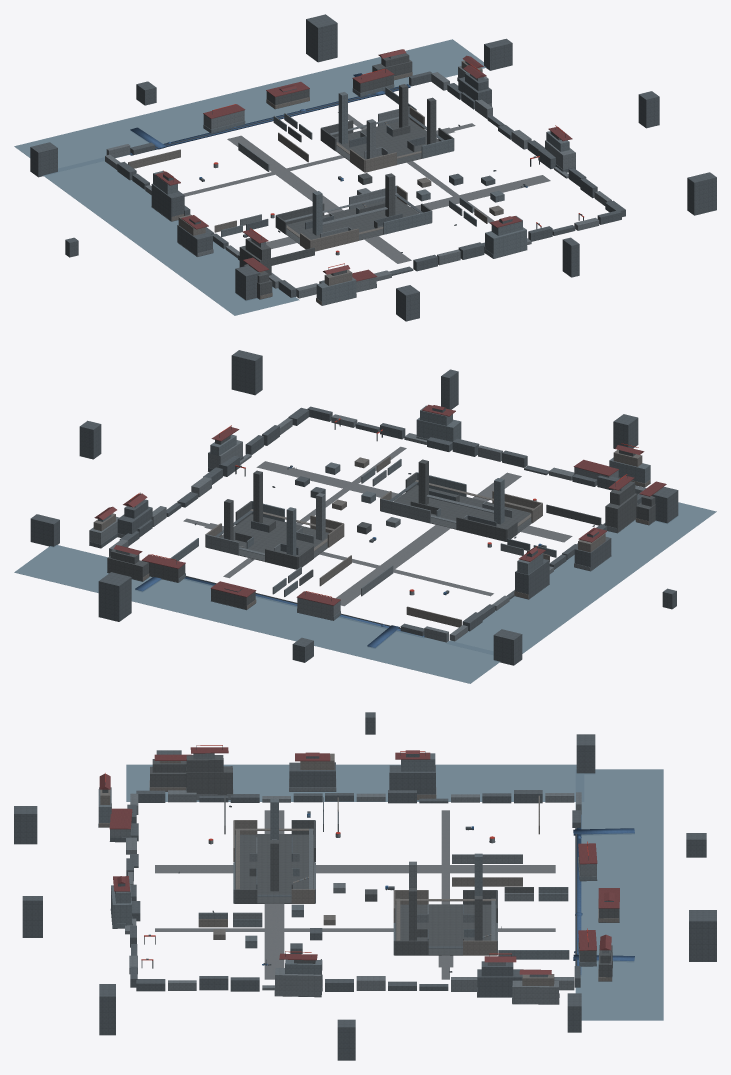
The model's file is kouwan-lod2.glb.
The picture shows the model from 3 angles, top to bottom: view 1: azimuth 30°, elevation 25°; view 2: azimuth 150°, elevation 25°; view 3: azimuth 270°, elevation 25°; orthographic projection. The views are drawn at different scales.
Parts seen in each view (by area): view 1: HB_kouwan_LOD2_water, HB_kouwan_LOD2_wall_alt, HB_kouwan_LOD2_wall, HB_kouwan_LOD2_road, HB_kouwan_LOD2_wall_cool, HB_kouwan_LOD2_LANDMARK_1_wall_weathered, HB_kouwan_LOD2_wall_weathered, HB_kouwan_LOD2_LANDMARK_0_wall_weathered, HB_kouwan_LOD2_roof, HB_kouwan_LOD2_wall_warm, HB_kouwan_LOD2_terrain, HB_kouwan_LOD2_LANDMARK_0_wall_cool (+5 smaller); view 2: HB_kouwan_LOD2_water, HB_kouwan_LOD2_wall_alt, HB_kouwan_LOD2_wall, HB_kouwan_LOD2_road, HB_kouwan_LOD2_wall_weathered, HB_kouwan_LOD2_LANDMARK_1_wall_weathered, HB_kouwan_LOD2_wall_cool, HB_kouwan_LOD2_LANDMARK_0_wall_weathered, HB_kouwan_LOD2_roof, HB_kouwan_LOD2_wall_warm, HB_kouwan_LOD2_LANDMARK_1_wall, HB_kouwan_LOD2_LANDMARK_0_wall (+5 smaller); view 3: HB_kouwan_LOD2_water, HB_kouwan_LOD2_wall_alt, HB_kouwan_LOD2_wall, HB_kouwan_LOD2_road, HB_kouwan_LOD2_LANDMARK_0_wall_weathered, HB_kouwan_LOD2_LANDMARK_1_wall_weathered, HB_kouwan_LOD2_wall_cool, HB_kouwan_LOD2_roof, HB_kouwan_LOD2_wall_weathered, HB_kouwan_LOD2_wall_warm, HB_kouwan_LOD2_LANDMARK_1_wall_warm, HB_kouwan_LOD2_LANDMARK_0_wall_warm (+4 smaller).
Boxes of the visible parts, <box> form: HB_kouwan_LOD2_water: <box>14,39,486,315</box>; HB_kouwan_LOD2_wall_alt: <box>30,14,716,321</box>; HB_kouwan_LOD2_wall: <box>105,53,611,298</box>; HB_kouwan_LOD2_road: <box>183,112,550,263</box>; HB_kouwan_LOD2_wall_cool: <box>153,61,569,305</box>; HB_kouwan_LOD2_LANDMARK_1_wall_weathered: <box>320,84,454,164</box>; HB_kouwan_LOD2_wall_weathered: <box>239,53,560,298</box>; HB_kouwan_LOD2_LANDMARK_0_wall_weathered: <box>275,173,432,244</box>; HB_kouwan_LOD2_roof: <box>155,49,572,281</box>; HB_kouwan_LOD2_wall_warm: <box>128,60,503,305</box>; HB_kouwan_LOD2_terrain: <box>130,73,410,155</box>; HB_kouwan_LOD2_LANDMARK_0_wall_cool: <box>312,191,431,235</box>; HB_kouwan_LOD2_water: <box>14,502,716,683</box>; HB_kouwan_LOD2_wall_alt: <box>30,350,678,665</box>; HB_kouwan_LOD2_wall: <box>89,414,646,642</box>; HB_kouwan_LOD2_road: <box>183,446,572,606</box>; HB_kouwan_LOD2_wall_weathered: <box>107,435,655,609</box>; HB_kouwan_LOD2_LANDMARK_1_wall_weathered: <box>220,470,329,569</box>; HB_kouwan_LOD2_wall_cool: <box>98,405,650,619</box>; HB_kouwan_LOD2_LANDMARK_0_wall_weathered: <box>394,459,531,541</box>; HB_kouwan_LOD2_roof: <box>94,404,666,605</box>; HB_kouwan_LOD2_wall_warm: <box>93,449,663,627</box>; HB_kouwan_LOD2_LANDMARK_1_wall: <box>205,493,325,555</box>; HB_kouwan_LOD2_LANDMARK_0_wall: <box>380,494,512,523</box>; HB_kouwan_LOD2_water: <box>126,764,663,1020</box>; HB_kouwan_LOD2_wall_alt: <box>14,712,716,1060</box>; HB_kouwan_LOD2_wall: <box>110,753,608,1003</box>; HB_kouwan_LOD2_road: <box>155,810,555,979</box>; HB_kouwan_LOD2_LANDMARK_0_wall_weathered: <box>234,820,315,903</box>; HB_kouwan_LOD2_LANDMARK_1_wall_weathered: <box>394,888,497,955</box>; HB_kouwan_LOD2_wall_cool: <box>98,753,596,977</box>; HB_kouwan_LOD2_roof: <box>99,747,619,974</box>; HB_kouwan_LOD2_wall_weathered: <box>102,755,619,977</box>; HB_kouwan_LOD2_wall_warm: <box>99,753,618,986</box>; HB_kouwan_LOD2_LANDMARK_1_wall_warm: <box>393,890,497,955</box>; HB_kouwan_LOD2_LANDMARK_0_wall_warm: <box>233,820,314,903</box>.
Size of the model in its own units: 641 by 53.45 by 575.
Materials: 13 (11 with a texture image).
